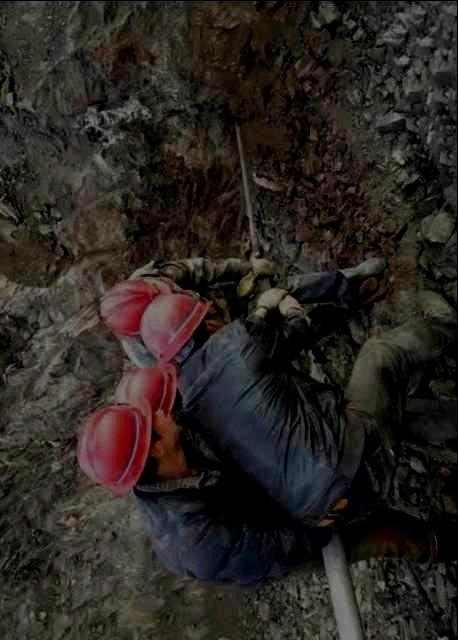helmet: (76, 394, 181, 497), (140, 291, 214, 368), (97, 276, 172, 338), (114, 359, 184, 414)
